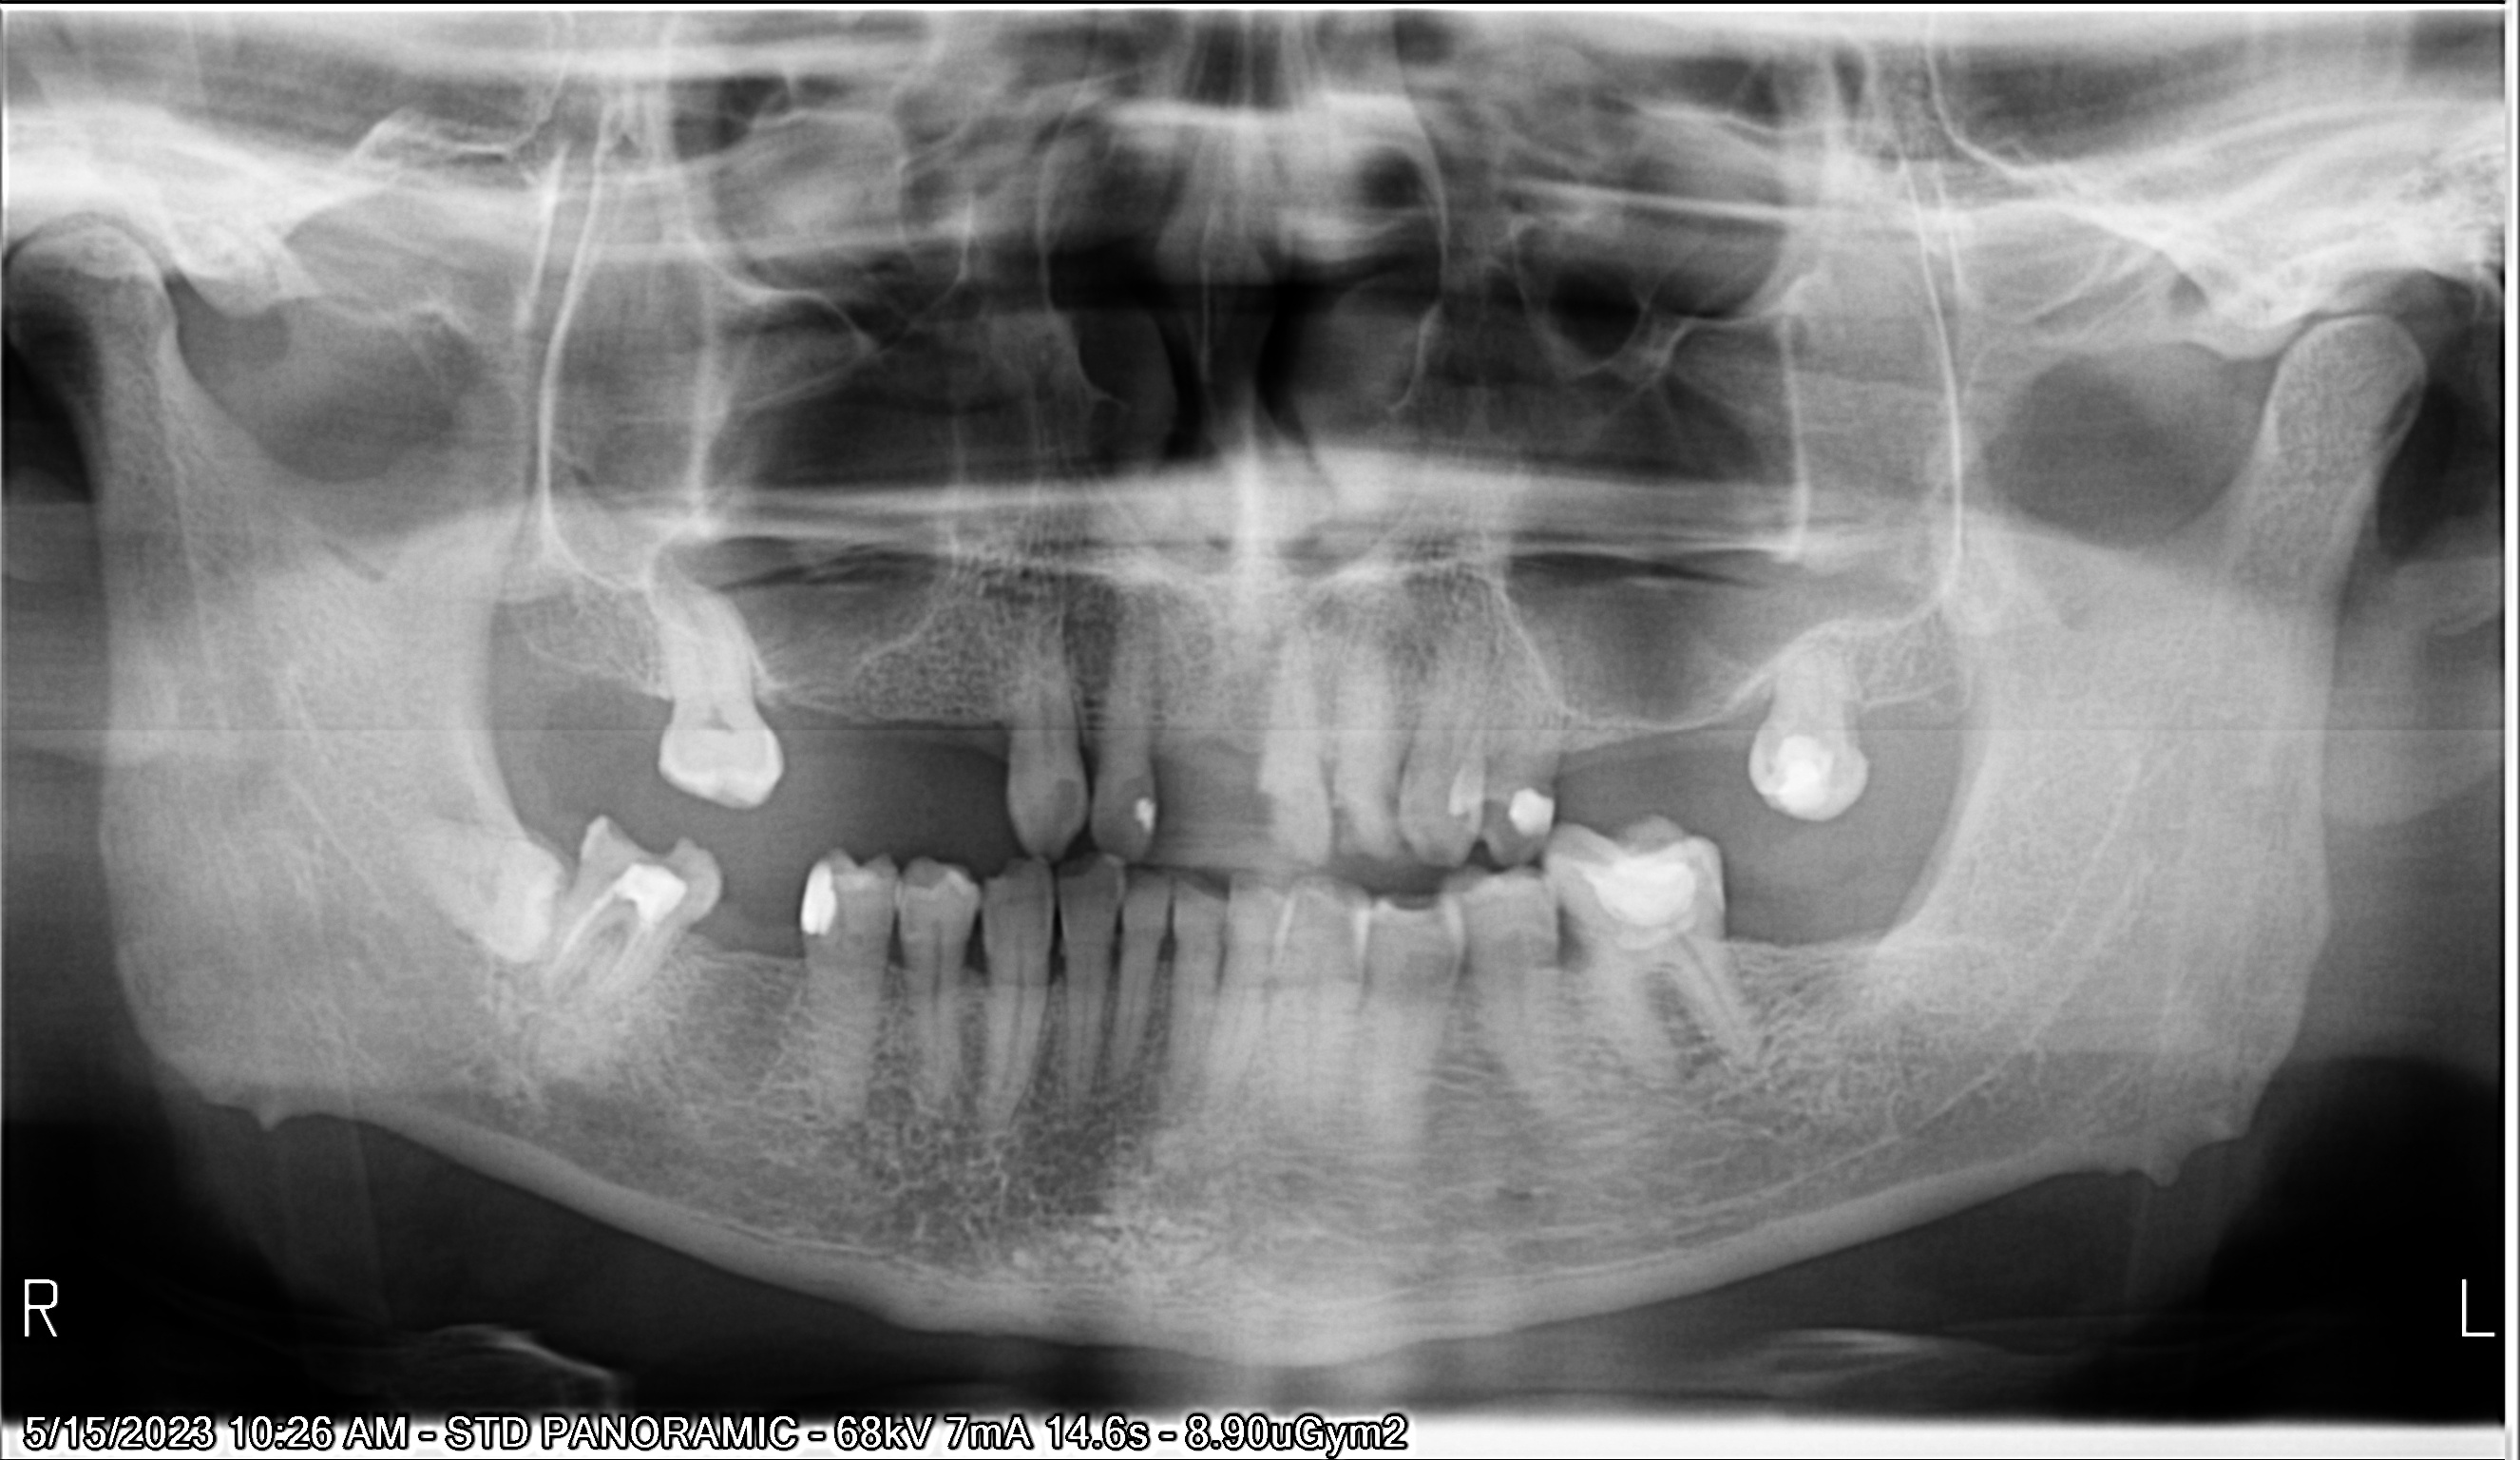BON: (962, 925, 995, 985), (1554, 909, 1582, 975), (1047, 923, 1073, 982), (1113, 923, 1127, 980), (893, 923, 910, 966), (1214, 939, 1224, 992), (1167, 928, 1183, 961)
CAR: (606, 810, 714, 867), (1339, 791, 1377, 878), (1400, 952, 1455, 999), (1250, 782, 1285, 852), (1495, 926, 1546, 965), (1056, 772, 1079, 838), (1125, 765, 1150, 798)
END: (570, 932, 689, 1027), (537, 862, 599, 982)
IMT: (373, 784, 551, 972)
OBT: (1589, 841, 1707, 946), (1765, 723, 1837, 822), (780, 857, 839, 947), (611, 860, 684, 916), (1501, 779, 1554, 845), (1122, 805, 1165, 839)
